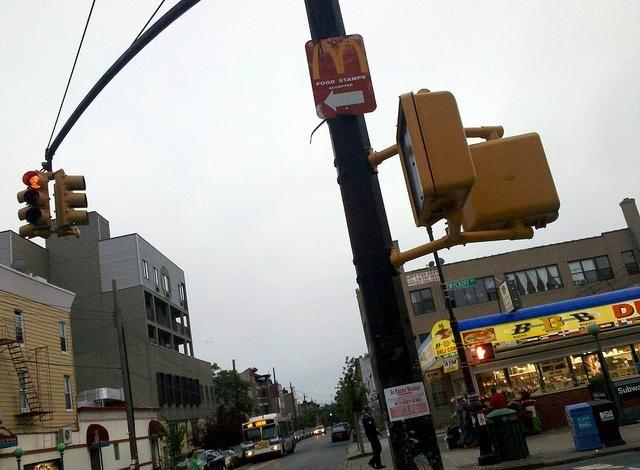bus: (241, 412, 296, 464)
car: (332, 428, 348, 442), (294, 430, 304, 440), (316, 424, 325, 434), (305, 428, 313, 438)
